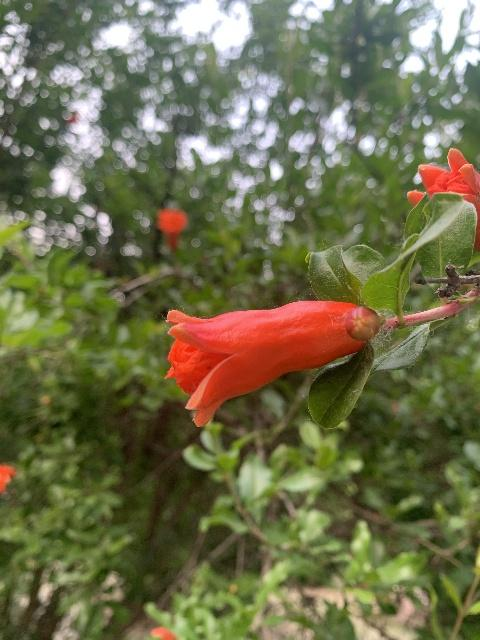bud: (345, 306, 380, 341)
flower: (162, 296, 365, 426), (407, 147, 480, 254), (155, 209, 187, 251)
